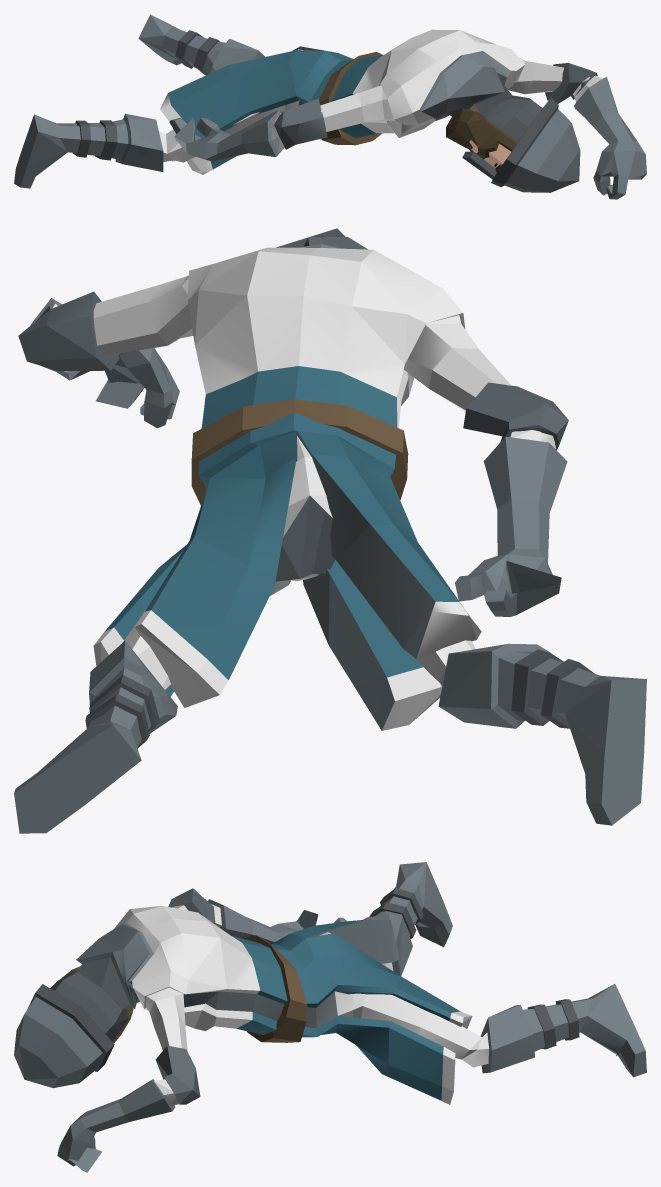
Rendered from SM_Dead_Soldier_10.fbx.
3 views of the same model, one above another, from view 1: azimuth 30°, elevation 25°; view 2: azimuth 150°, elevation 25°; view 3: azimuth 270°, elevation 25° (orthographic). The views are drawn at different scales.
Parts seen in each view (by area): view 1: SM_Dead_Soldier_10; view 2: SM_Dead_Soldier_10; view 3: SM_Dead_Soldier_10.
Part boxes in pixels (<box>): SM_Dead_Soldier_10: <box>14,14,646,199</box>; SM_Dead_Soldier_10: <box>14,228,646,833</box>; SM_Dead_Soldier_10: <box>14,862,646,1172</box>.
Bounding box in the file's own units: 163 × 59.48 × 173.
